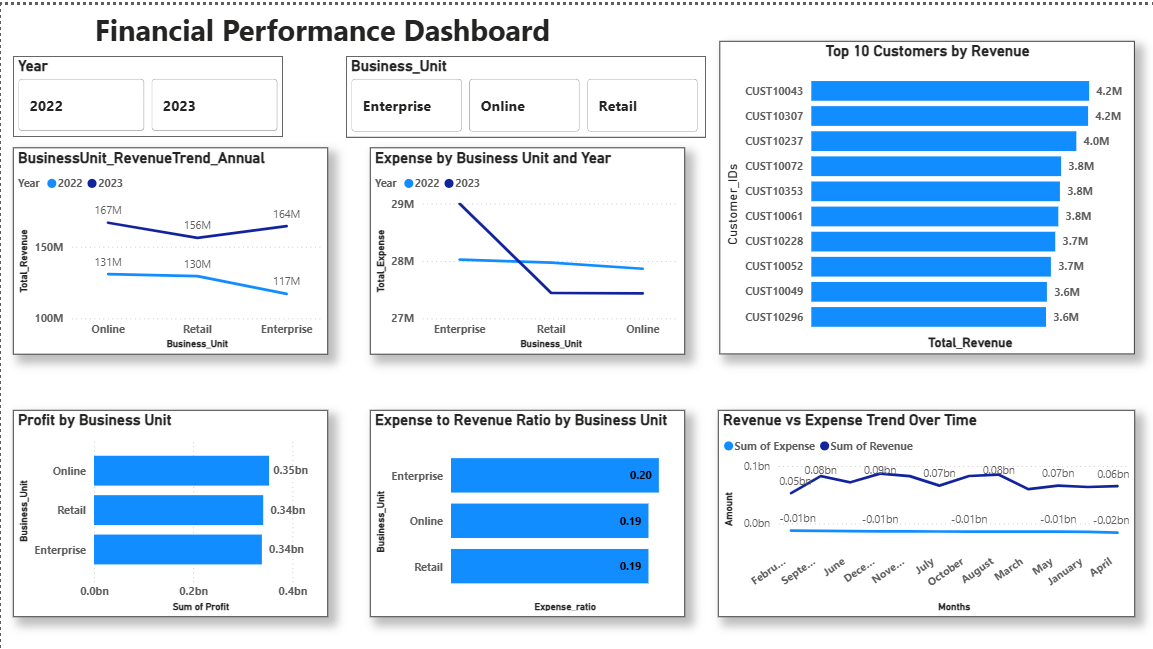

This screenshot's page, from the dashboard's own definition file:
{"tool":"powerbi","page":{"name":"Page 1","canvas":[1280,720],"ordinal":0},"visuals":[{"type":"lineChart","title":"BusinessUnit_RevenueTrend_Annual","fields":{"Category":["01_revenue by year and business Unit.Business_Unit"],"Y":["Sum(01_revenue by year and business Unit.Total_Revenue)"],"Series":["01_revenue by year and business Unit.Year"]},"box":[13,158.7,349.8,229.9],"z":0},{"type":"lineChart","title":"Expense by Business Unit and Year","fields":{"Category":["02_Expense by Year and Business Unit.Business_Unit"],"Series":["02_Expense by Year and Business Unit.Year"],"Y":["Sum(02_Expense by Year and Business Unit.Total Expense)"]},"box":[409.7,158.7,349.8,229.9],"z":1000},{"type":"clusteredBarChart","title":"Profit by Business Unit","fields":{"Y":["Sum(04_profit_by_business_unit.Profit)"],"Category":["04_profit_by_business_unit.Business_Unit"]},"box":[13,450.1,349.8,229.9],"z":2000},{"type":"barChart","title":"Expense to Revenue Ratio by Business Unit","fields":{"Category":["05_expense_revenue_ratio.Business_Unit"],"Y":["Sum(05_expense_revenue_ratio.Expense Revenue Ratio)"]},"box":[409.7,450.1,349.8,229.9],"z":3000},{"type":"lineChart","title":"Revenue vs Expense Trend Over Time","fields":{"Category":["03_revenue_vs_expense.Months"],"Y":["Sum(03_revenue_vs_expense.Expense)","Sum(03_revenue_vs_expense.Revenue)"]},"box":[796.7,450.1,463.1,229.9],"z":4000},{"type":"clusteredBarChart","title":"Top 10 Customers by Revenue","fields":{"Category":["06_top_customers_revenue.Customer_id"],"Y":["Sum(06_top_customers_revenue.Customer_Revenue)"]},"box":[798.3,40.5,461.5,348.1],"z":5000},{"type":"textbox","box":[0,0,714.3,57.1],"z":6000},{"type":"advancedSlicerVisual","fields":{"Values":["01_revenue by year and business Unit.Year"]},"box":[13,56.7,300,90],"z":7000},{"type":"advancedSlicerVisual","fields":{"Values":["01_revenue by year and business Unit.Business_Unit"]},"box":[383.8,56.7,399.9,90.7],"z":8000}]}

Visuals, with their boxes in screenshot pixels (x1, y1, x2, y2), scaled from the page's 1280x720 canvas onto the 1153x649 screenshot:
"BusinessUnit_RevenueTrend_Annual" lineChart: bbox=(12, 143, 327, 350)
"Expense by Business Unit and Year" lineChart: bbox=(369, 143, 684, 350)
"Profit by Business Unit" clusteredBarChart: bbox=(12, 406, 327, 613)
"Expense to Revenue Ratio by Business Unit" barChart: bbox=(369, 406, 684, 613)
"Revenue vs Expense Trend Over Time" lineChart: bbox=(718, 406, 1135, 613)
"Top 10 Customers by Revenue" clusteredBarChart: bbox=(719, 37, 1135, 350)
textbox: bbox=(0, 0, 643, 51)
advancedSlicerVisual - 01_revenue by year and business Unit.Year: bbox=(12, 51, 282, 132)
advancedSlicerVisual - 01_revenue by year and business Unit.Business_Unit: bbox=(346, 51, 706, 133)
